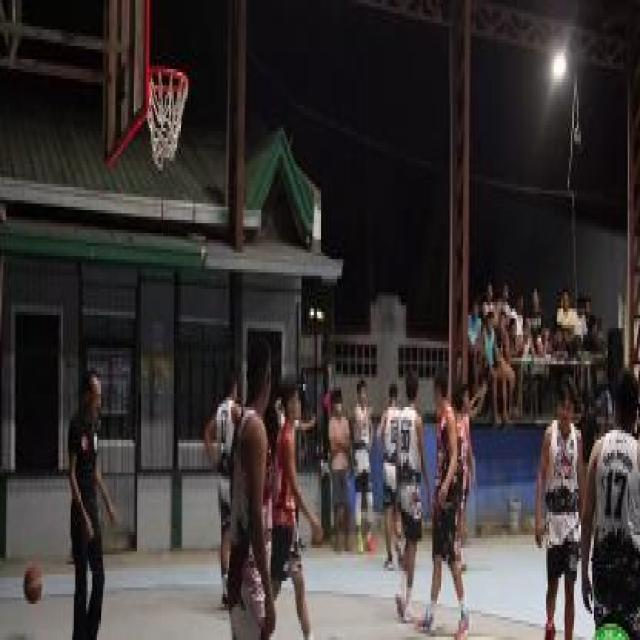ball: (20, 563, 46, 612)
hoop: (148, 67, 191, 91)
